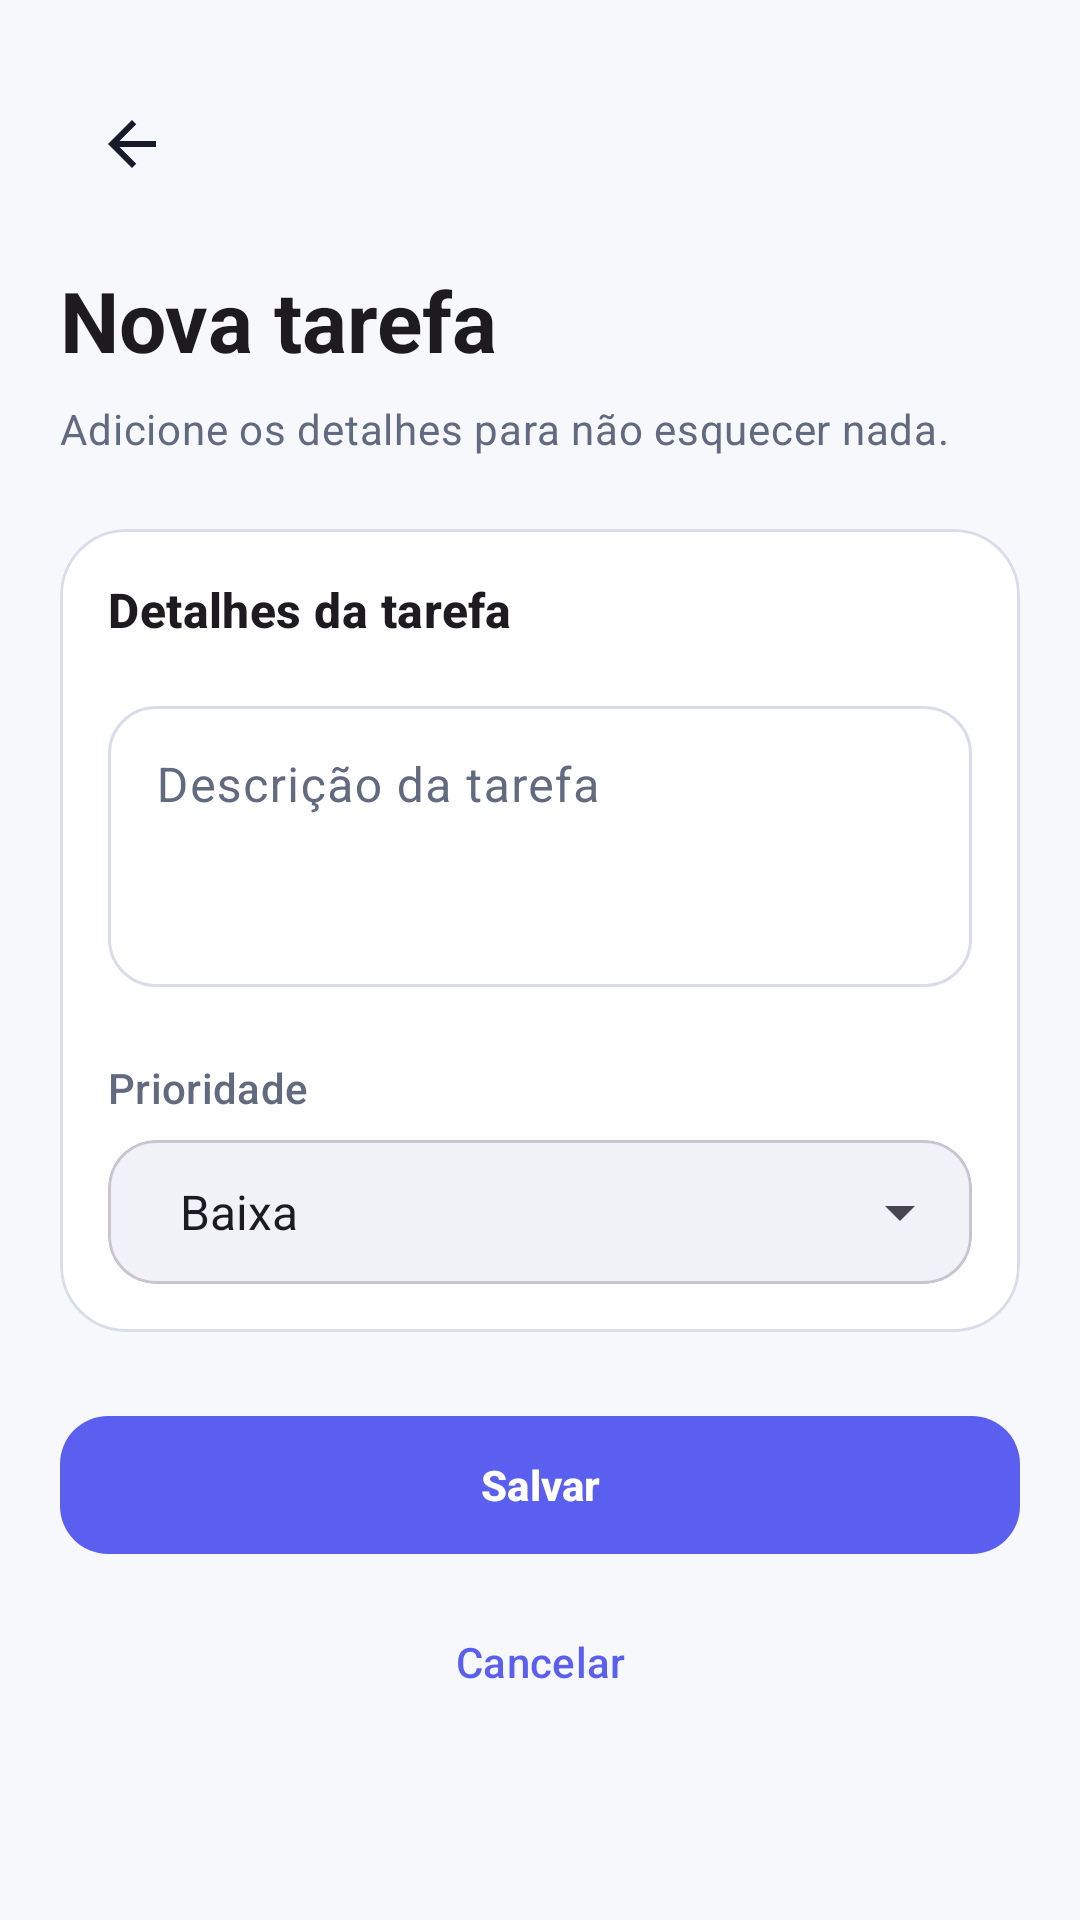

Named icons in this screenshot (1080x1920) and their bounding boxes, [left=x1, top=y1, right=x2, bottom=y2]:
arrow back: [left=108, top=120, right=156, bottom=168]
